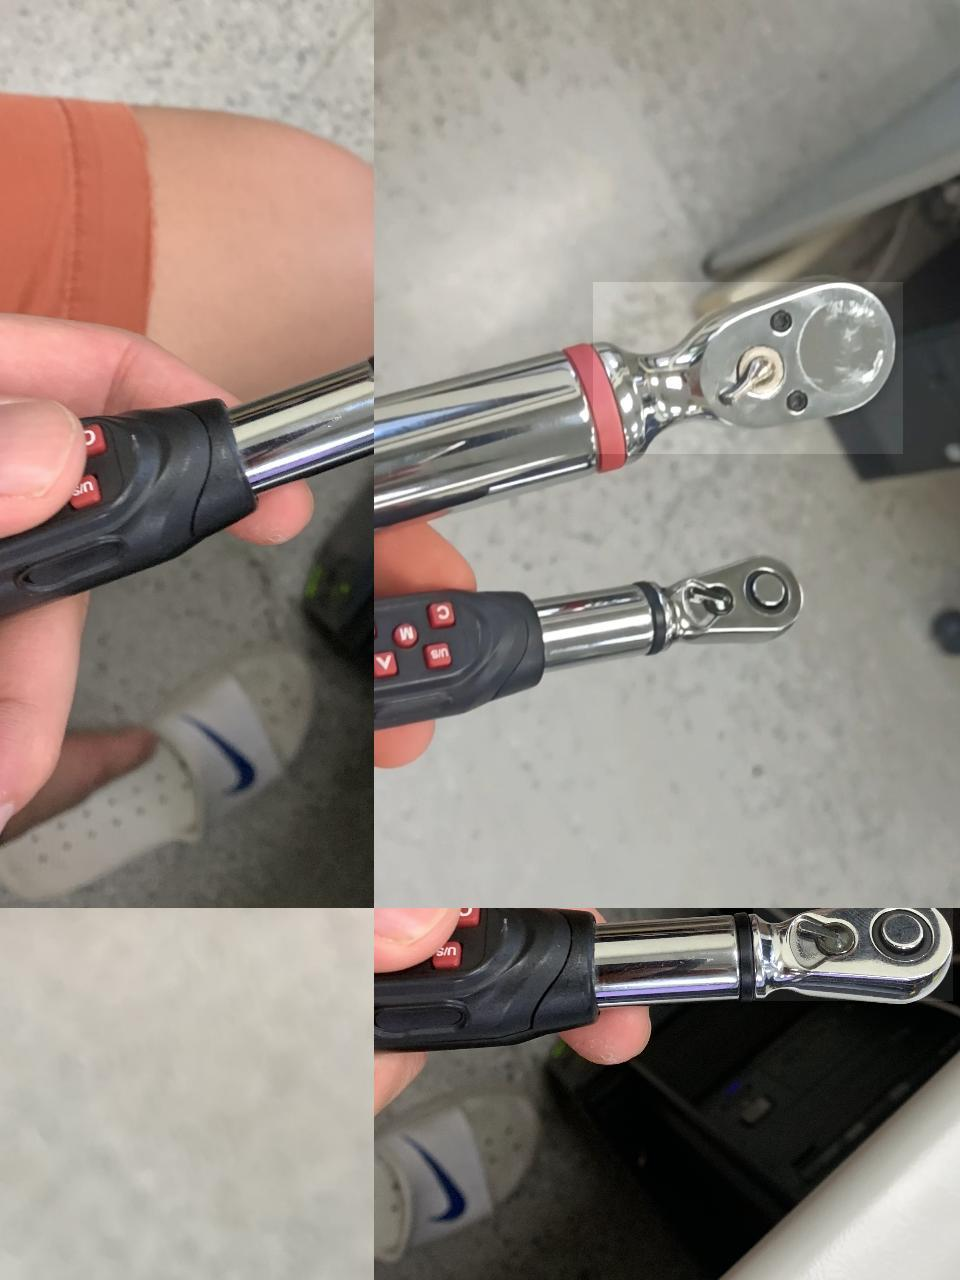Tool: (592, 281, 902, 453), (752, 908, 952, 1000), (654, 544, 800, 640)
